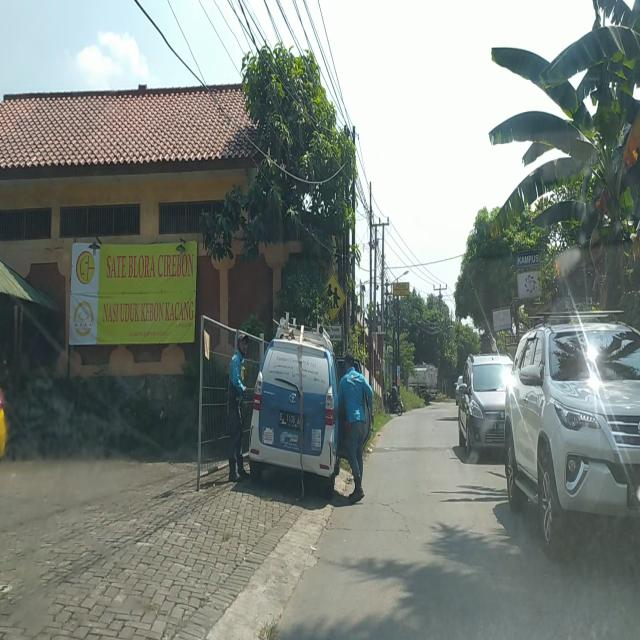Sewer Cover: (351, 496, 406, 519), (324, 523, 413, 535)
